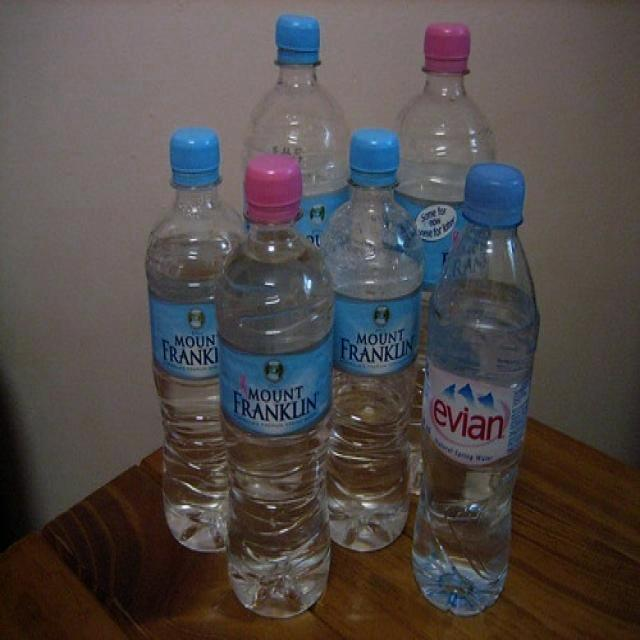bottle: (411, 164, 541, 615), (217, 154, 333, 619), (389, 22, 497, 496), (146, 127, 250, 553), (322, 129, 423, 552), (238, 7, 352, 284)
